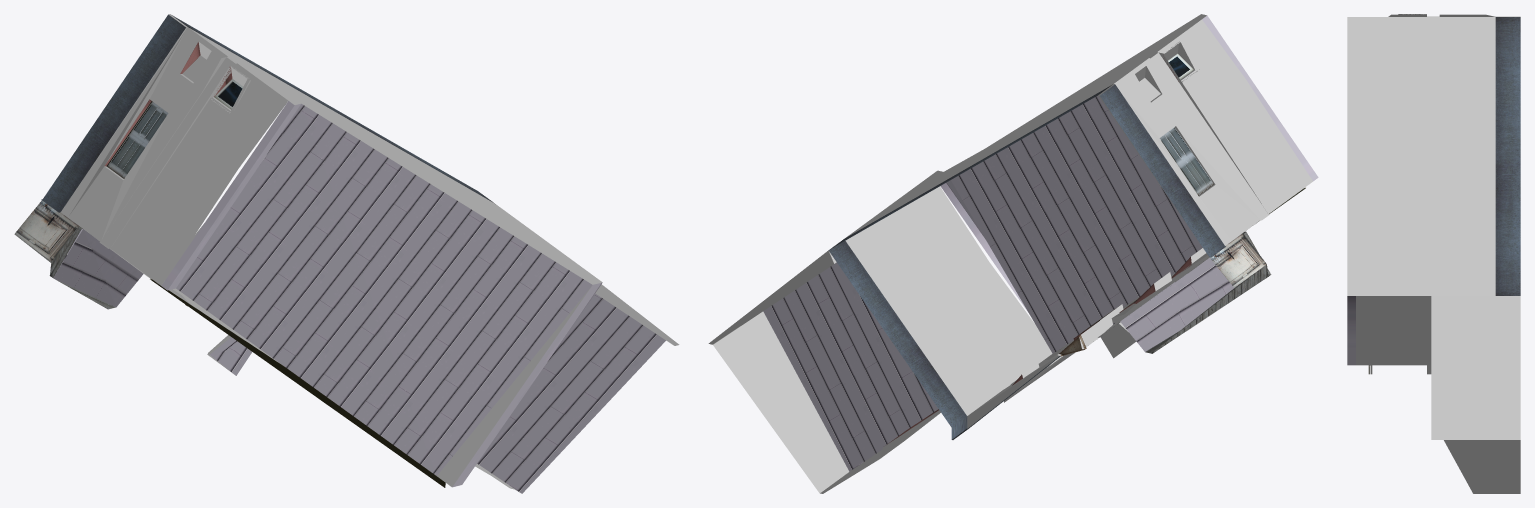
Rendered from Parnu_9a-origo.obj.
3 views of the same model, side by side, from view 1: azimuth 30°, elevation 25°; view 2: azimuth 150°, elevation 25°; view 3: azimuth 270°, elevation 25° (orthographic). The views are drawn at different scales.
Visible parts, largest first — view 1: Parnu_mnt_9a; view 2: Parnu_mnt_9a; view 3: Parnu_mnt_9a.
Part boxes in pixels (x1,y1,x2,y2): Parnu_mnt_9a: (14,14,679,493); Parnu_mnt_9a: (708,14,1318,493); Parnu_mnt_9a: (1347,14,1520,493).
Bounding box in the file's own units: 22.5 × 19 × 8.06.
